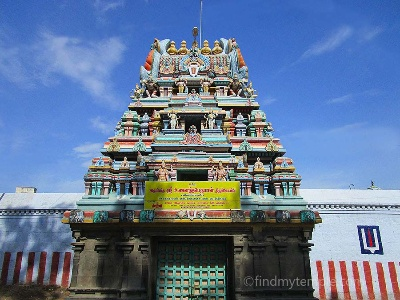gopura: (108, 34, 304, 195)
